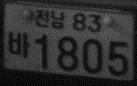0: (81, 37, 104, 75)
1: (33, 31, 49, 71)
3: (86, 12, 101, 33)
5: (105, 39, 131, 77)
8: (55, 34, 79, 72), (72, 11, 87, 32)
바: (7, 30, 31, 59)
전남_H: (33, 7, 66, 30)
